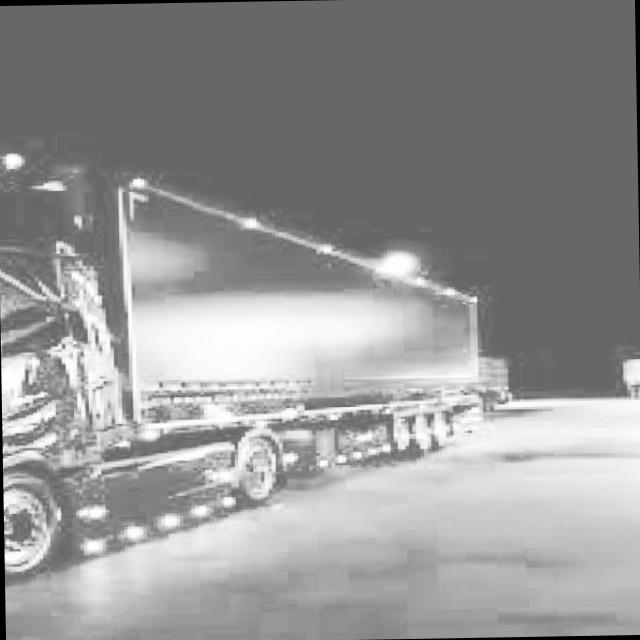Truck: (0, 137, 511, 584)
